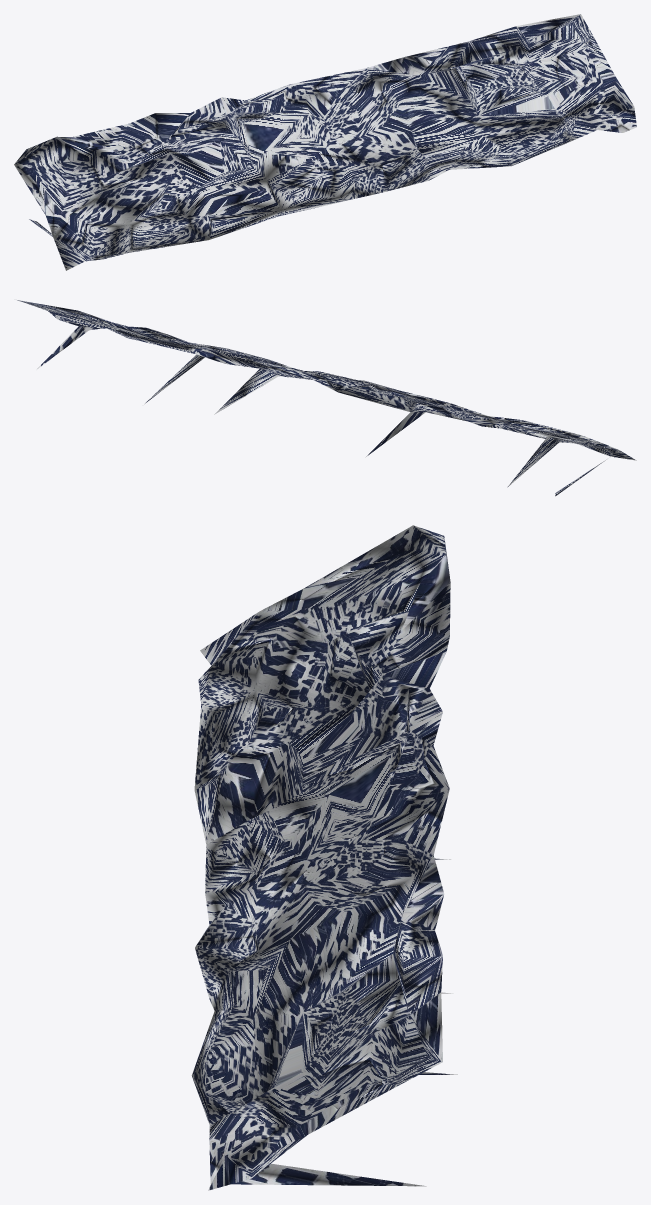
File: solar_lod1.glb
3 renders of one model, top to bottom at view 1: azimuth 30°, elevation 25°; view 2: azimuth 150°, elevation 25°; view 3: azimuth 270°, elevation 25°, orthographic. The views are drawn at different scales.
Size of the model in its own units: 1.88 by 0.2395 by 0.3848.
Materials: 1 (1 with a texture image).
